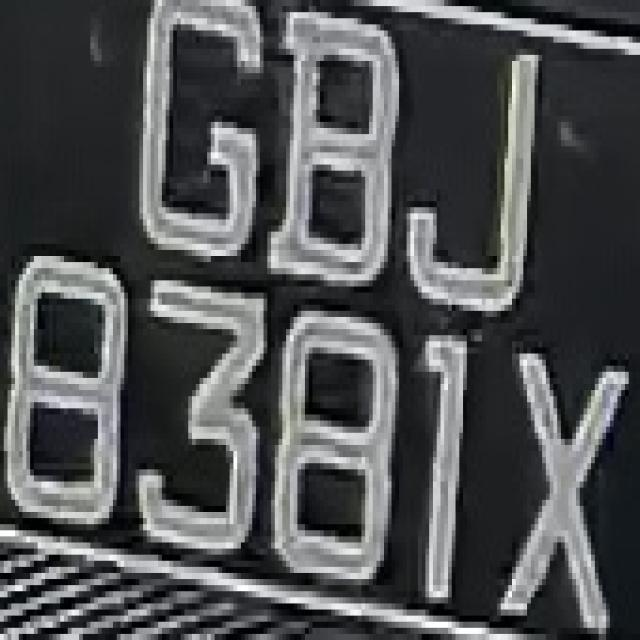1: (406, 311, 474, 628)
3: (136, 256, 268, 585)
8: (264, 262, 396, 604), (8, 207, 136, 549)
B: (271, 18, 403, 305)
G: (120, 0, 264, 293)
J: (402, 24, 550, 311)
X: (493, 323, 625, 640)
